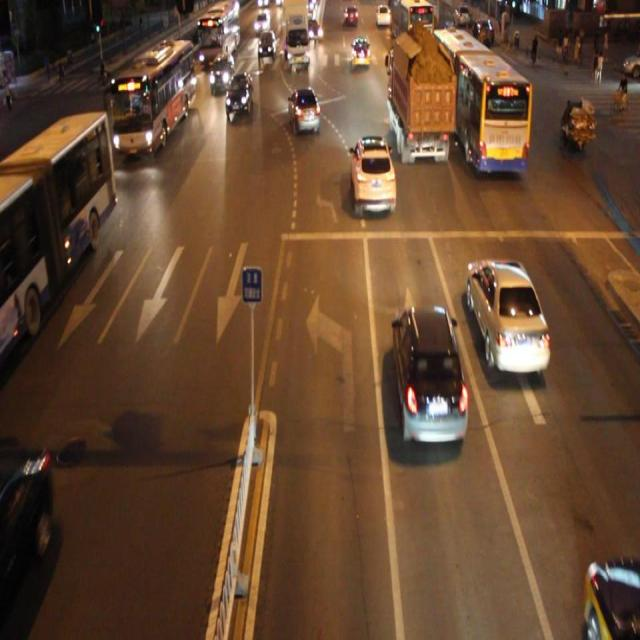bus: (388, 37, 451, 162)
car: (392, 305, 467, 444), (466, 258, 549, 372), (1, 437, 53, 613), (350, 136, 395, 216), (288, 86, 320, 133), (225, 72, 252, 118), (209, 52, 234, 94)
van: (0, 113, 116, 365), (433, 28, 530, 172), (104, 40, 192, 156)
